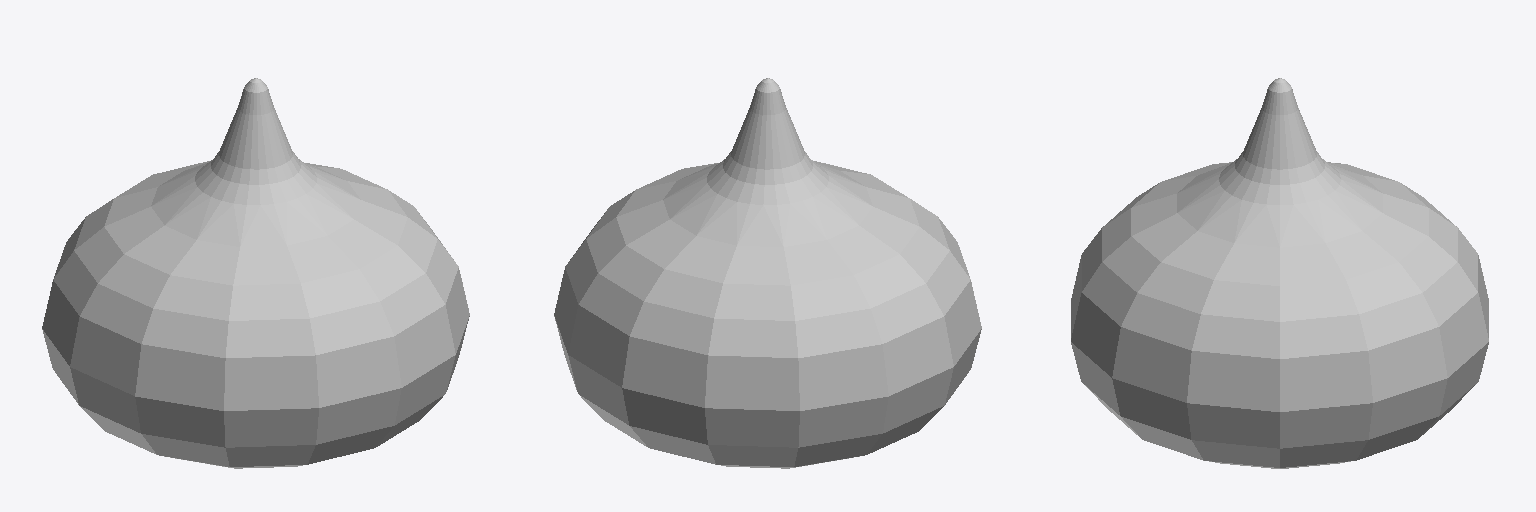
File: slime_simple_low_tri.obj
3 views of the same model, side by side, from view 1: azimuth 30°, elevation 25°; view 2: azimuth 150°, elevation 25°; view 3: azimuth 270°, elevation 25° (orthographic).
Parts seen in each view (by area): view 1: slime; view 2: slime; view 3: slime.
Part boxes in pixels (x1,y1,x2,y2): slime: (42,78,469,468); slime: (554,78,981,468); slime: (1071,78,1488,468).
Size of the model in its own units: 1.88 by 1.72 by 1.83.